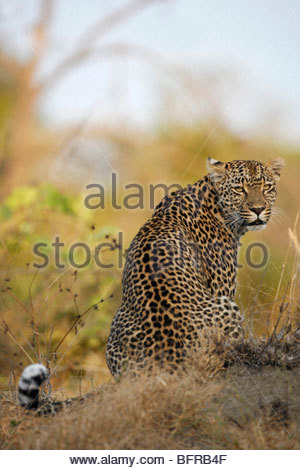leopard: (104, 157, 285, 380)
